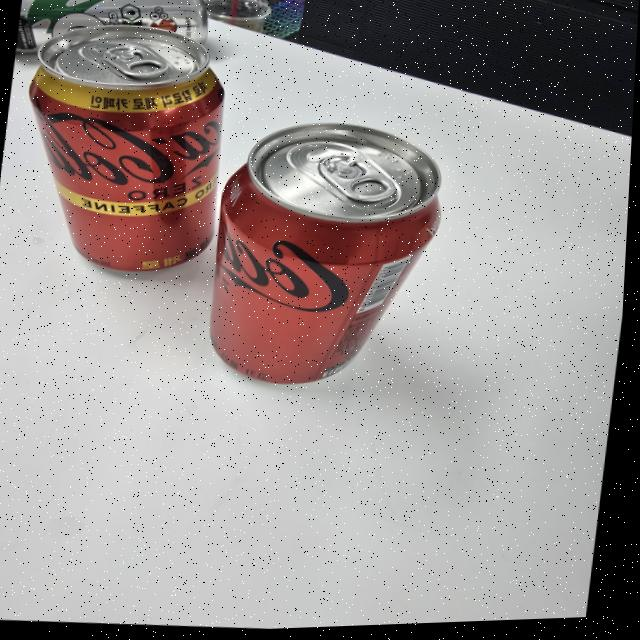can_coke_decaf: (25, 25, 221, 272)
can_coke_zero: (208, 127, 443, 385)
